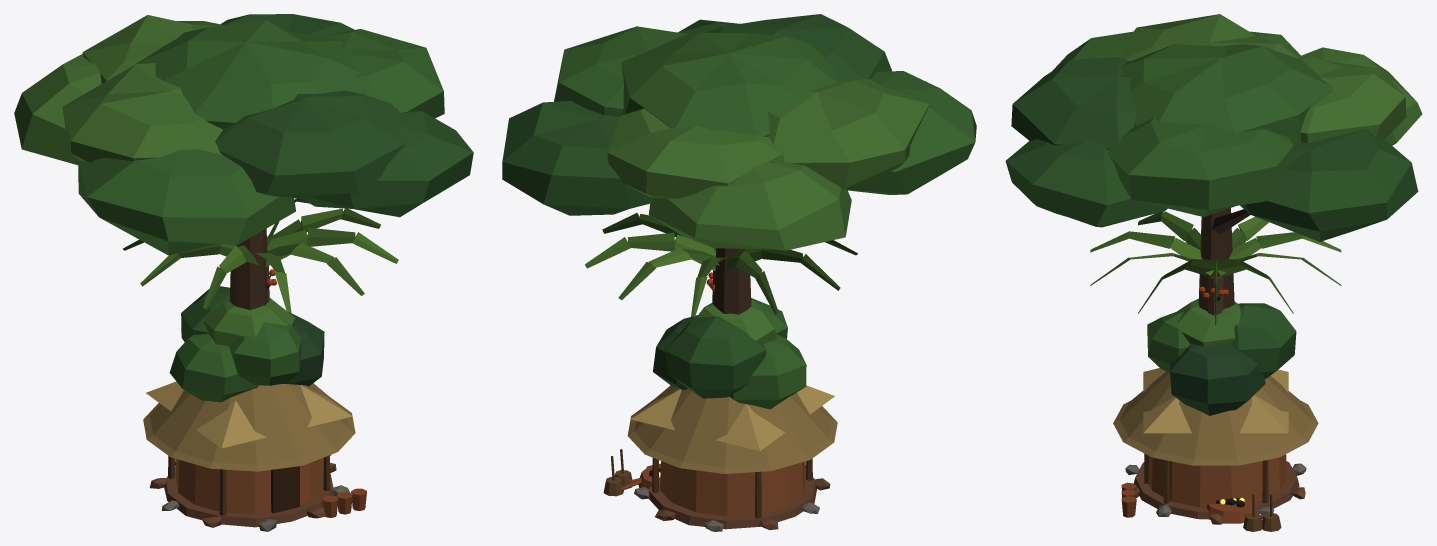
File: environment.glb
3 views of the same model, side by side, from view 1: azimuth 30°, elevation 25°; view 2: azimuth 150°, elevation 25°; view 3: azimuth 270°, elevation 25° (orthographic). The views are drawn at different scales.
Parts seen in each view (by area): view 1: tree_giant, hut, tree_mid, palm, forge, shrine; view 2: tree_giant, hut, tree_mid, palm, forge, shrine; view 3: tree_giant, hut, tree_mid, palm, forge, shrine.
Boxes of the visible parts, x1,y1,x2,y2 form: tree_giant: (14, 14, 473, 309); hut: (143, 383, 366, 527); tree_mid: (169, 286, 324, 402); palm: (123, 198, 398, 312); forge: (146, 381, 352, 515); shrine: (149, 458, 350, 531); tree_giant: (502, 14, 976, 314); hut: (627, 385, 837, 529); tree_mid: (653, 298, 806, 409); palm: (585, 213, 857, 316); forge: (603, 385, 834, 518); shrine: (634, 461, 830, 531); tree_giant: (1005, 14, 1422, 311); hut: (1113, 371, 1318, 519); tree_mid: (1147, 298, 1296, 415); palm: (1090, 211, 1341, 324); forge: (1143, 368, 1288, 531); shrine: (1125, 463, 1306, 524).
Size of the model in its own units: 10.66 by 12.23 by 10.55.
